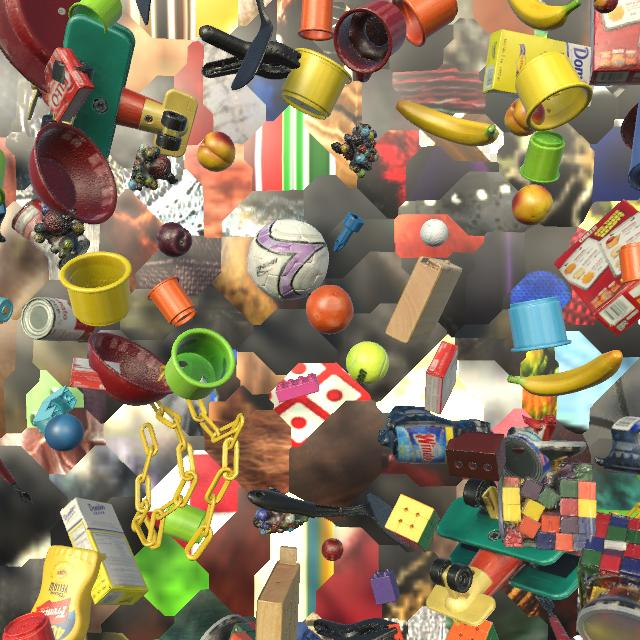ycb_003_cracker_box: (553, 199, 640, 335), (589, 0, 640, 86)
ycb_004_sugar_box: (60, 497, 149, 605), (483, 29, 594, 108)
ycb_005_tomato_soup_can: (11, 197, 90, 270), (21, 297, 97, 342)
ycb_006_mustard_bottle: (31, 545, 107, 640)
ycb_007_tuna_fish_can: (504, 431, 551, 482)
ycb_009_gelatin_box: (39, 47, 95, 122), (424, 341, 458, 415), (69, 357, 121, 391)
ycb_011_banana: (507, 350, 623, 397), (396, 100, 499, 147), (507, 0, 581, 31)
ycb_015_peach: (511, 185, 553, 226), (504, 98, 545, 137), (197, 131, 236, 172)
ycb_017_orange: (306, 285, 354, 334)
ycb_018_plum: (156, 222, 192, 258)
